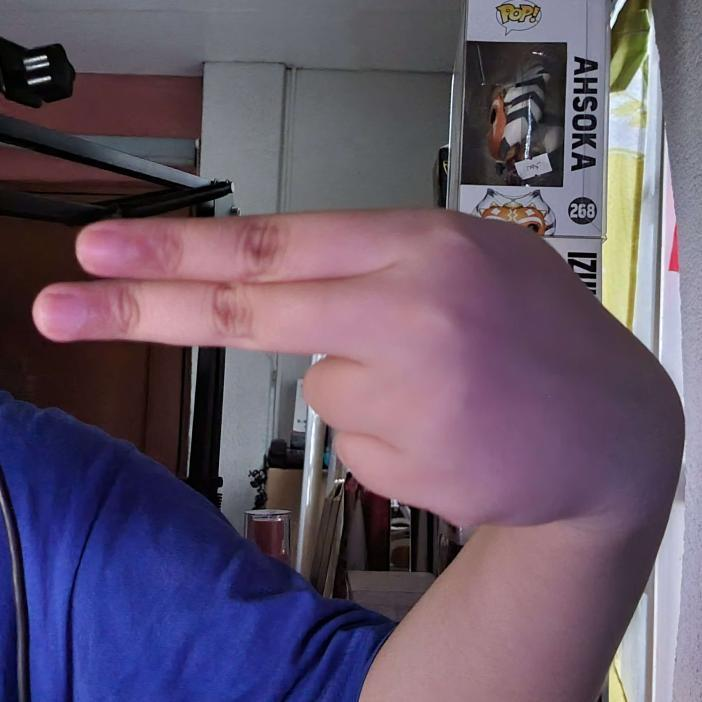h: (32, 209, 686, 529)
